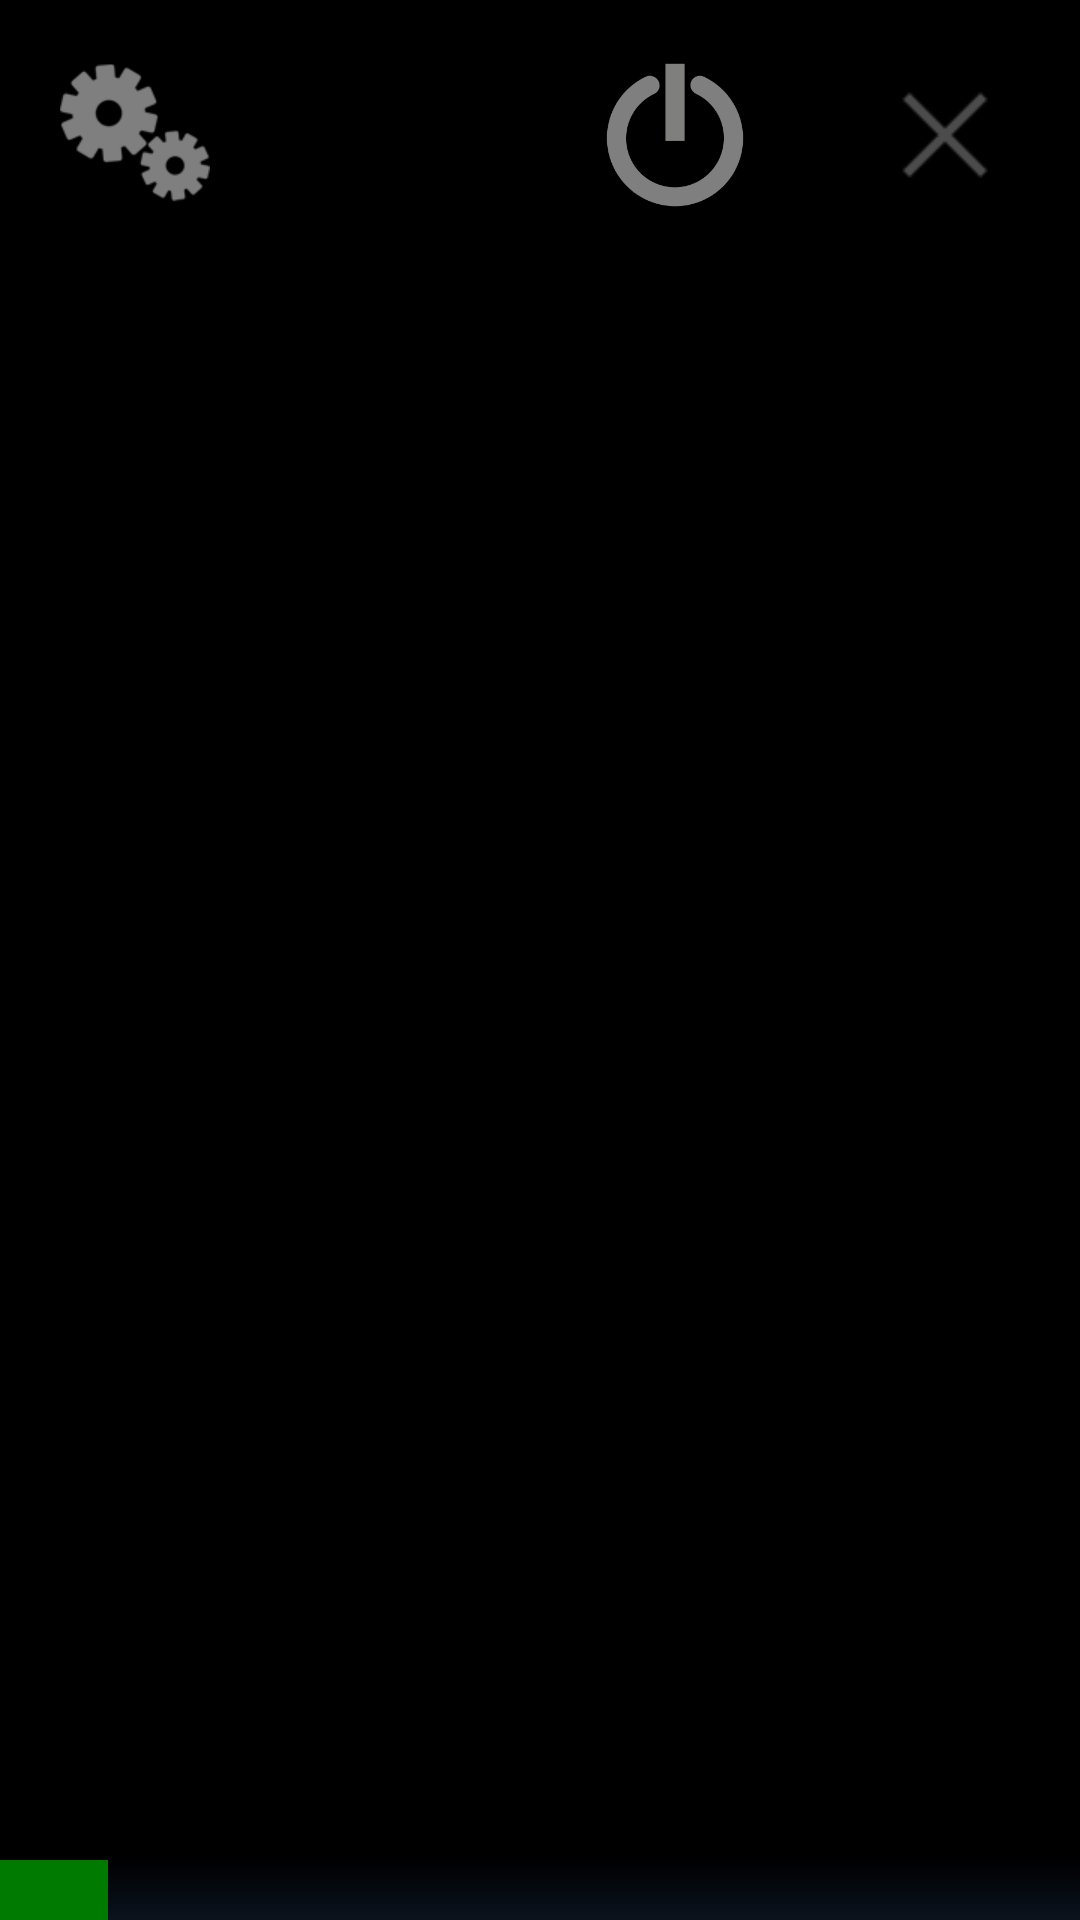

Icons on this 1080×1920 Android screen, each with its box as (x1, y1, x2, y2):
close clear cancel: (903, 93, 987, 177)
process: (60, 64, 210, 201)
